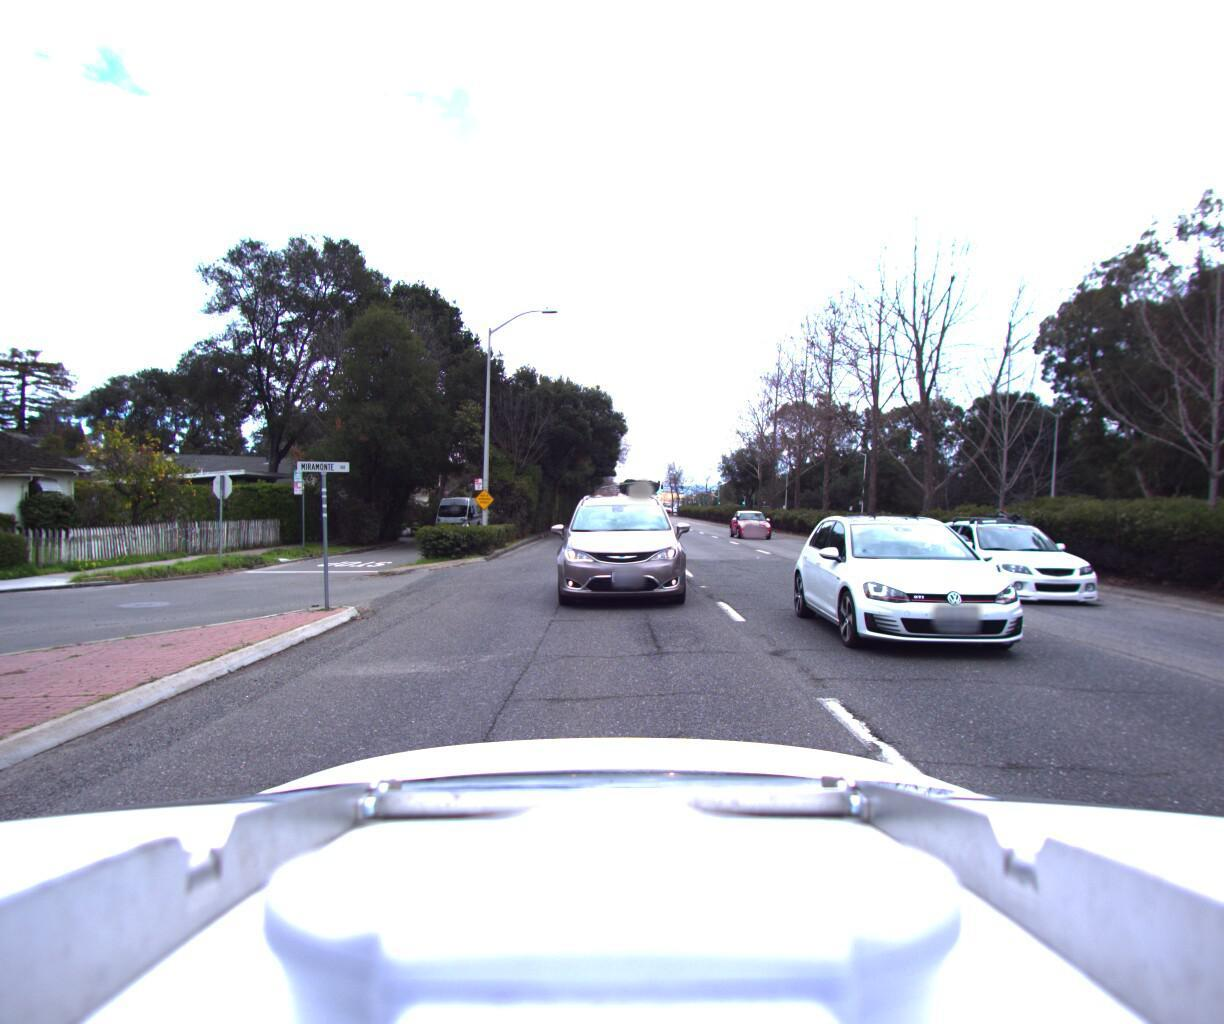car: (797, 490, 1134, 690), (944, 496, 1189, 613), (551, 481, 684, 611), (733, 507, 778, 538)
other_vehicle: (431, 493, 480, 536)
